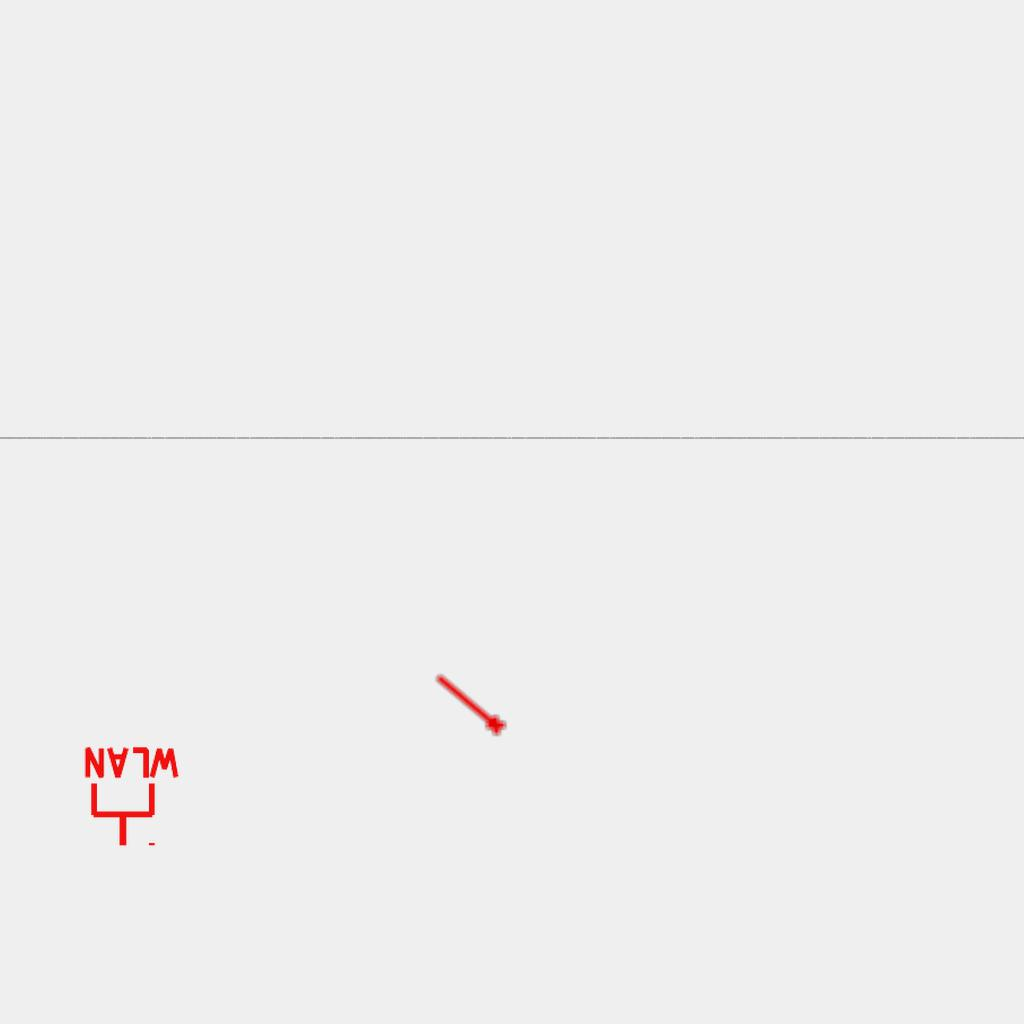ASR_Ansaugoeffnung: (427, 667, 511, 742)
WLAN: (80, 745, 184, 850)
